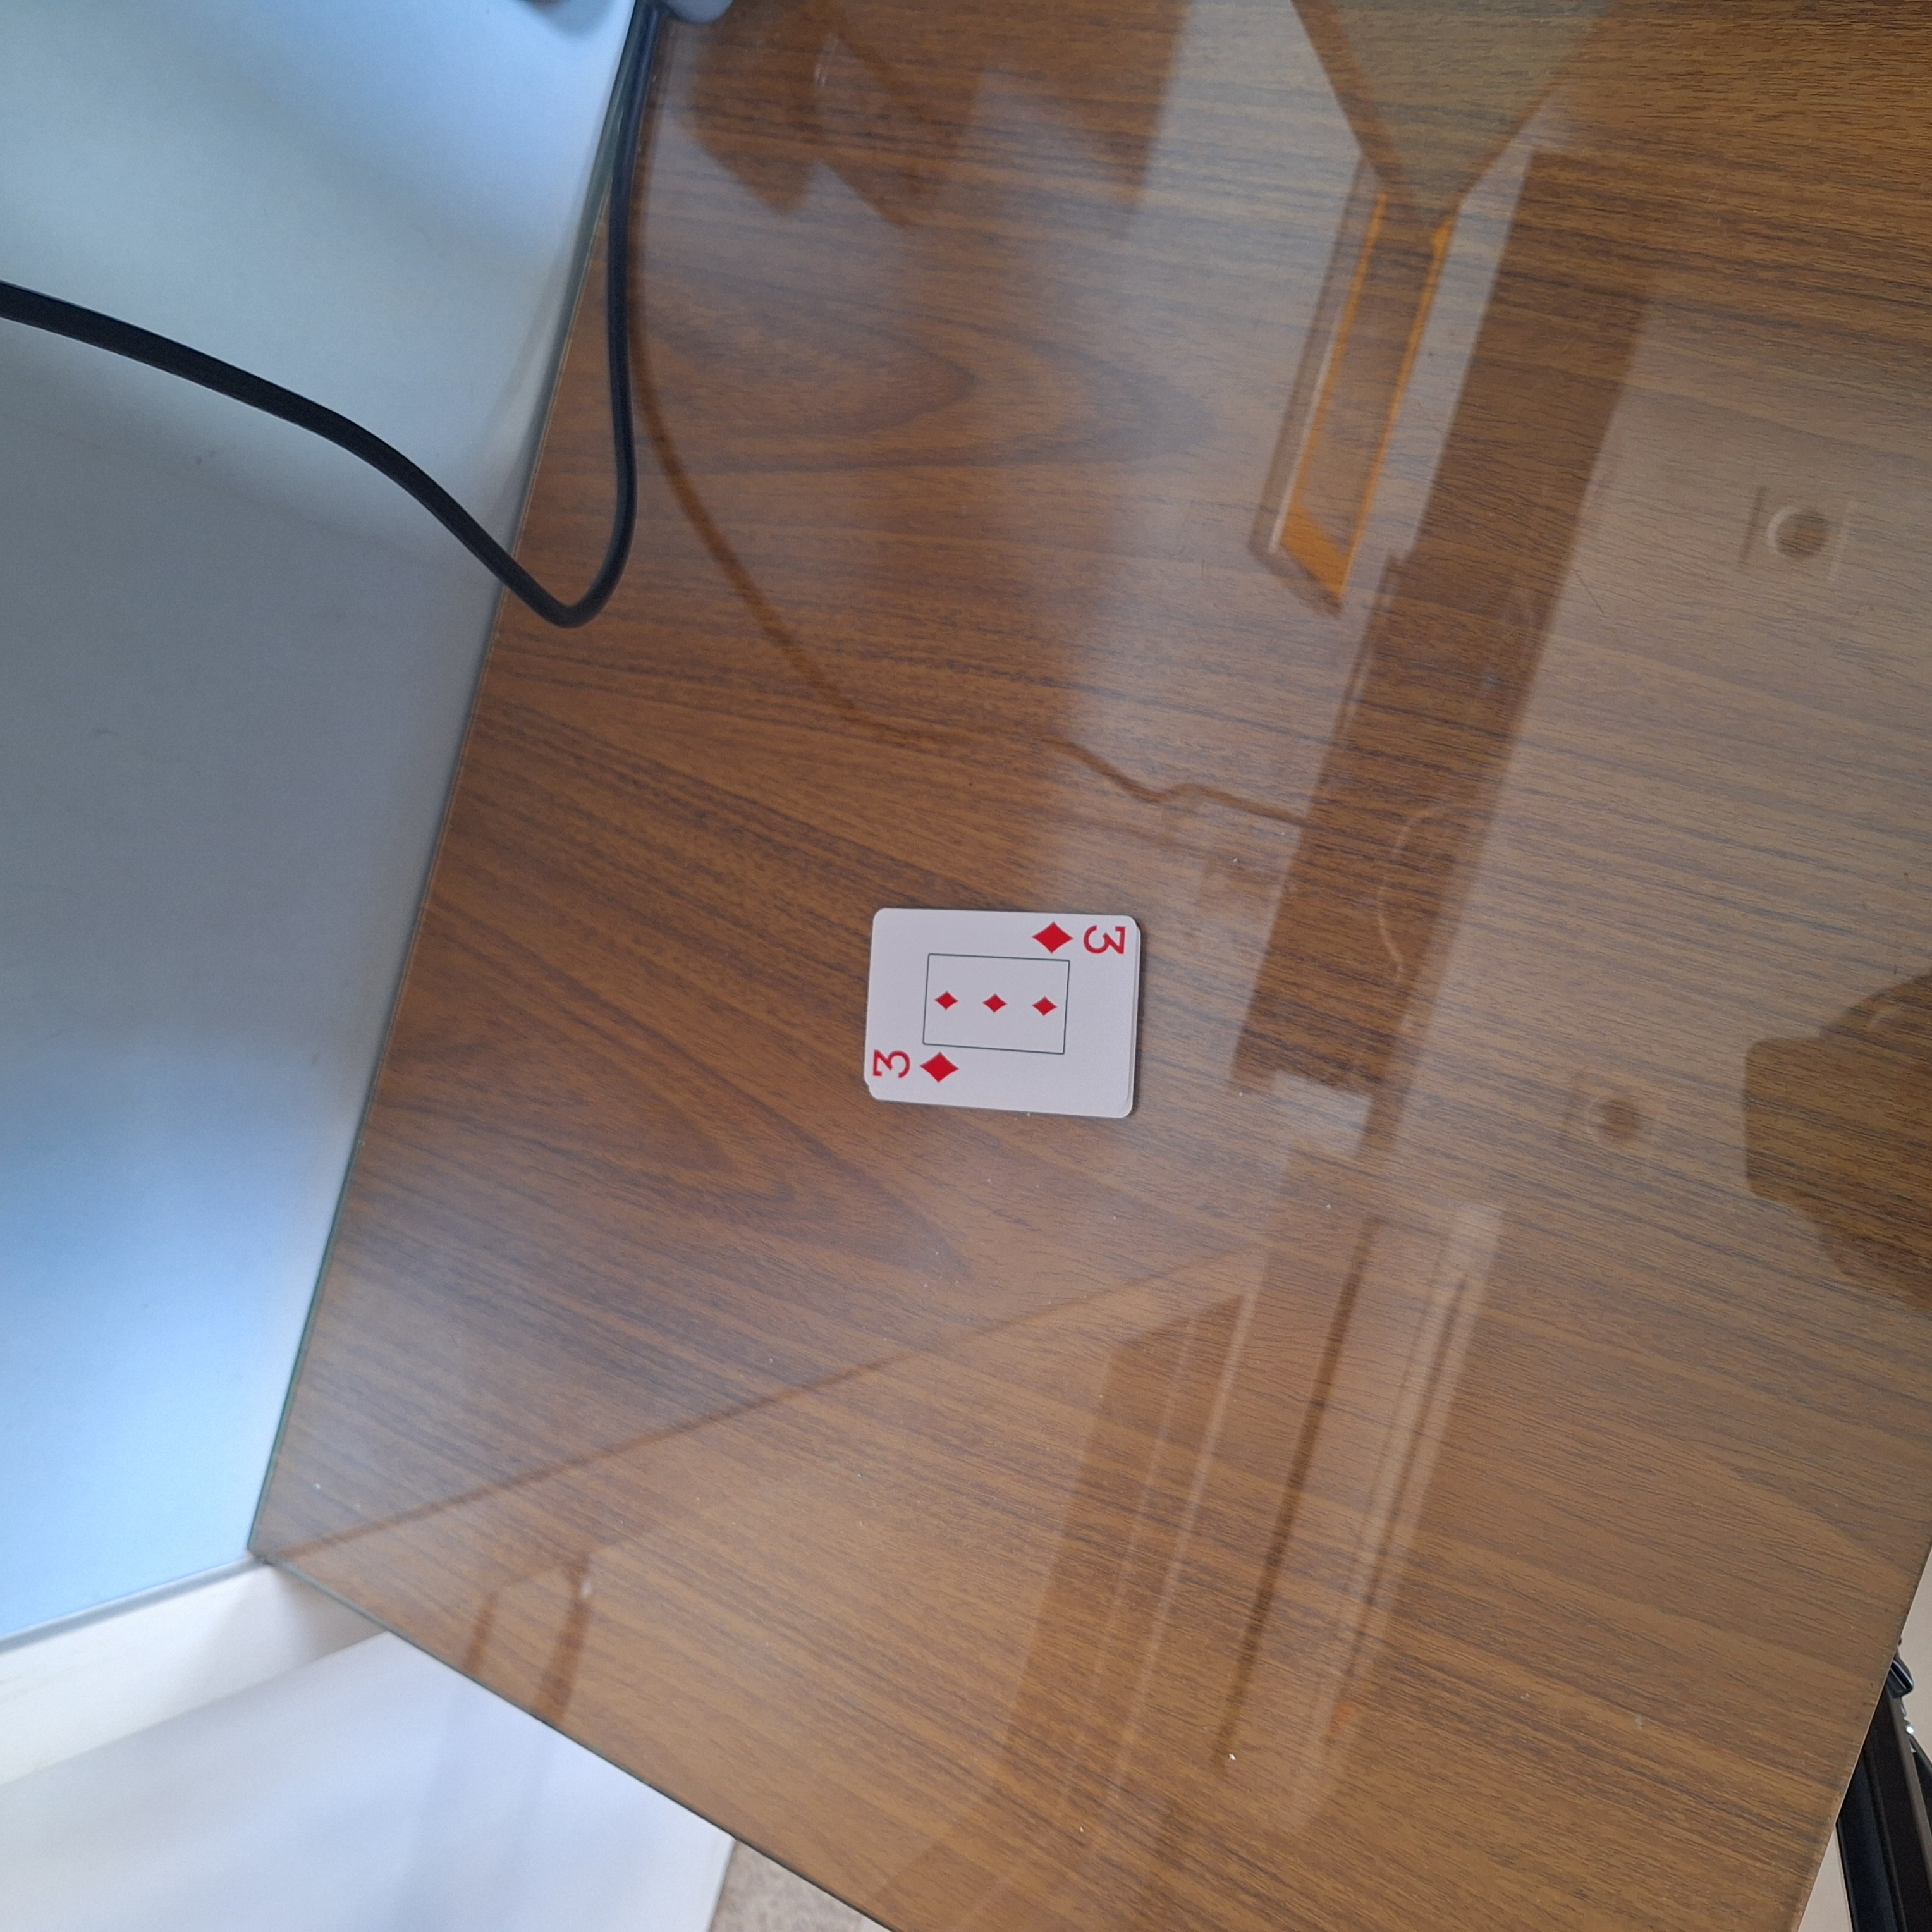3O: (1021, 915, 1136, 971), (860, 1044, 970, 1095)
